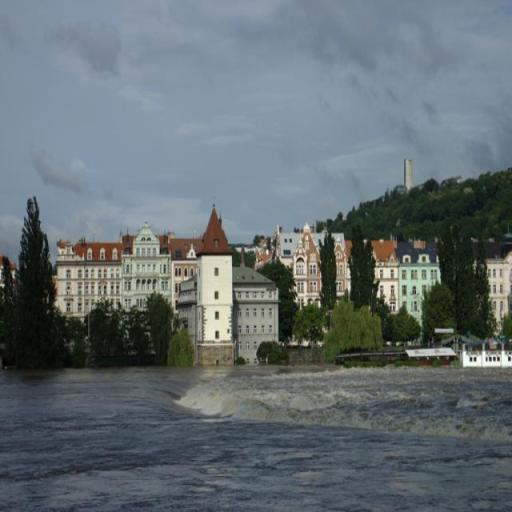flood: (0, 367, 512, 512)
house: (234, 266, 279, 362), (393, 235, 441, 323), (196, 247, 234, 356), (279, 224, 325, 308), (126, 220, 168, 308), (488, 244, 510, 332), (370, 240, 397, 309)
